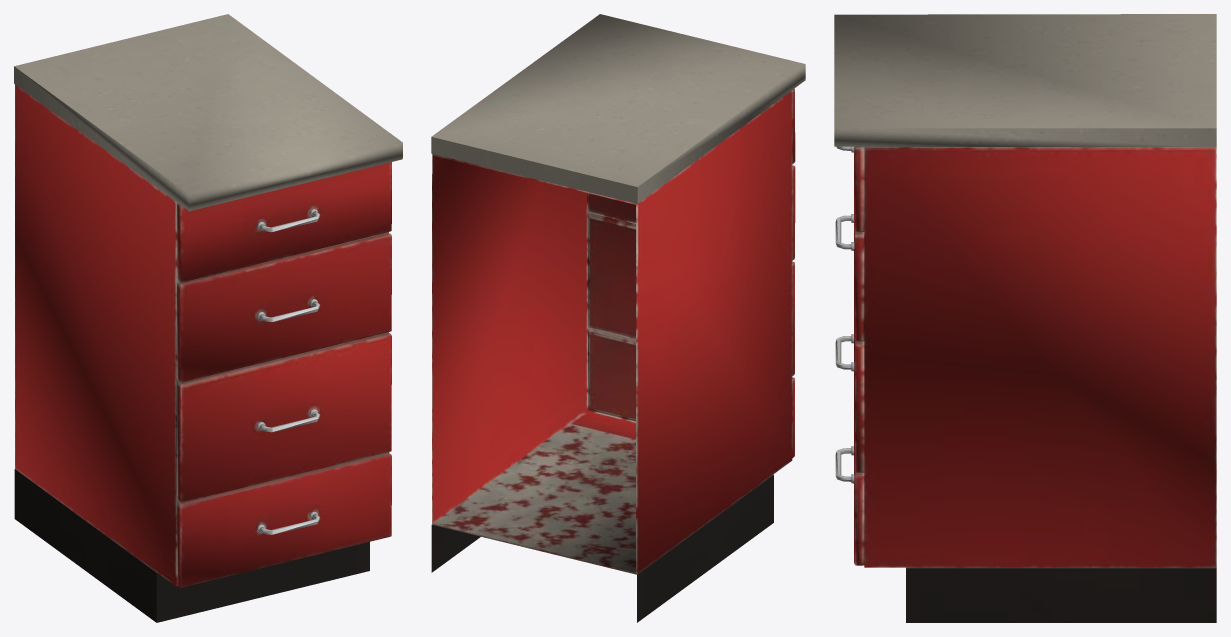
The model's file is kit_base_45dr_red-low.glb.
3 renders of one model, left to right at view 1: azimuth 30°, elevation 25°; view 2: azimuth 150°, elevation 25°; view 3: azimuth 270°, elevation 25°, orthographic. The views are drawn at different scales.
Parts seen in each view (by area): view 1: kit_base_45dr_red-low; view 2: kit_base_45dr_red-low; view 3: kit_base_45dr_red-low.
Boxes of the visible parts, left/top/right/bottom form: kit_base_45dr_red-low: left=14, top=14, right=402, bottom=622; kit_base_45dr_red-low: left=431, top=14, right=805, bottom=622; kit_base_45dr_red-low: left=834, top=14, right=1216, bottom=622.
Size of the model in its own units: 0.448 by 0.905 by 0.634.
Materials: 1 (1 with a texture image).
